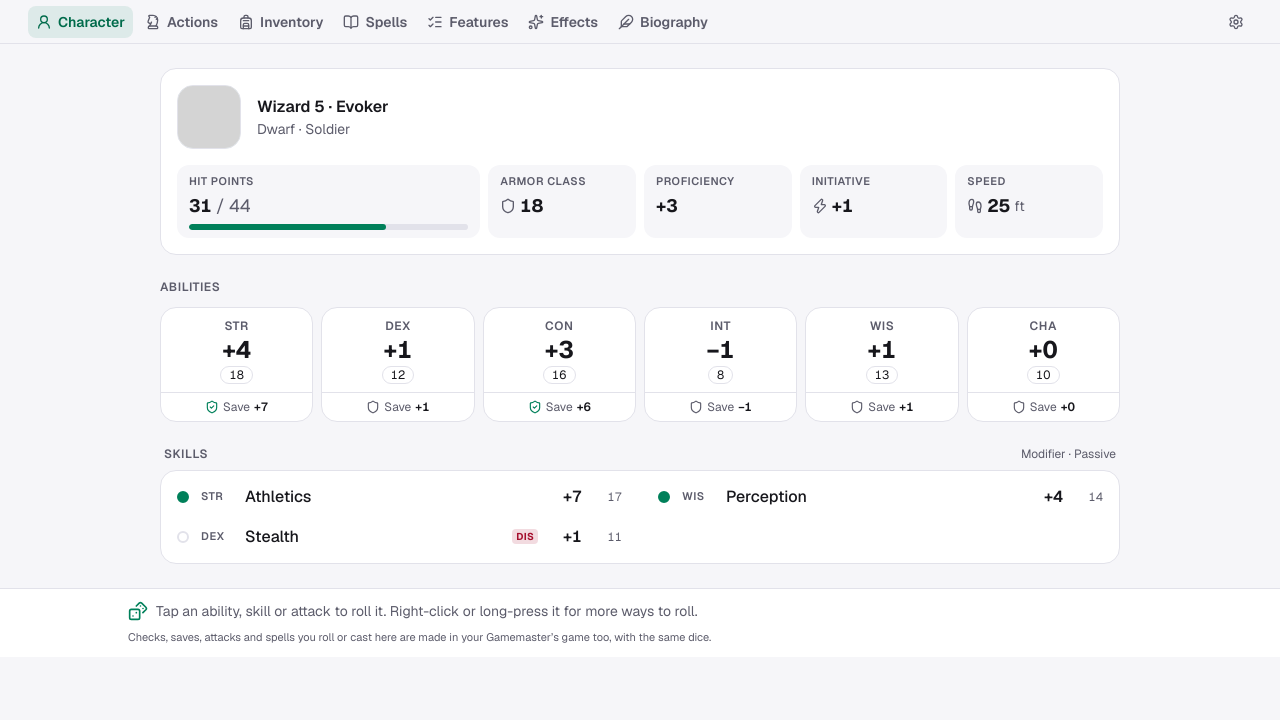
Test: enchant activities at the table, from module 0.21.0 › a use › casts Magic Weapon on the item tapped, in the way offered at the level chosen
The image size is (1280, 720).
What coordinates should you click on to do the following:
click the tab "Actions"
I would click on:
 (182, 22)
Its box is [137, 6, 226, 38].
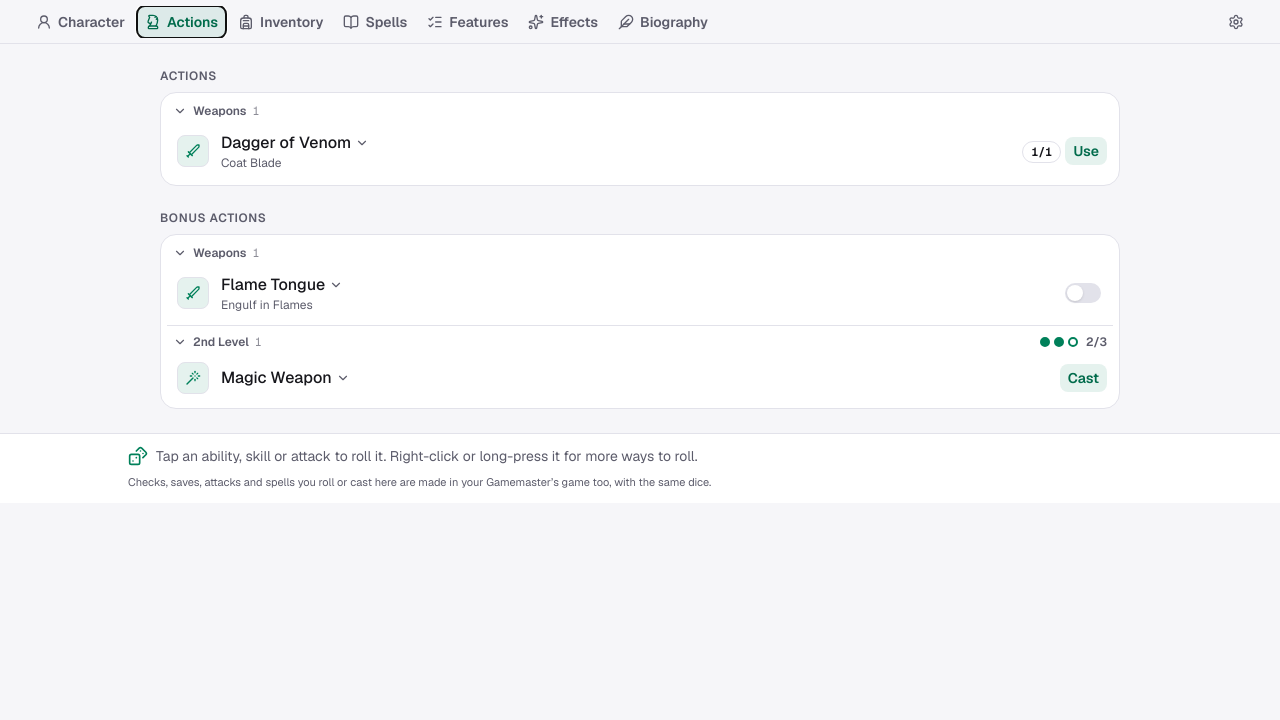
expect the list item "Magic Weapon Cast" does not show "Used in Foundry": met, box [167, 354, 1113, 402]
What coordinates should you click on to do the following:
click the button with aria-label "Cast Magic Weapon"
I would click on:
 (1083, 378)
Its box is [1060, 364, 1107, 392].
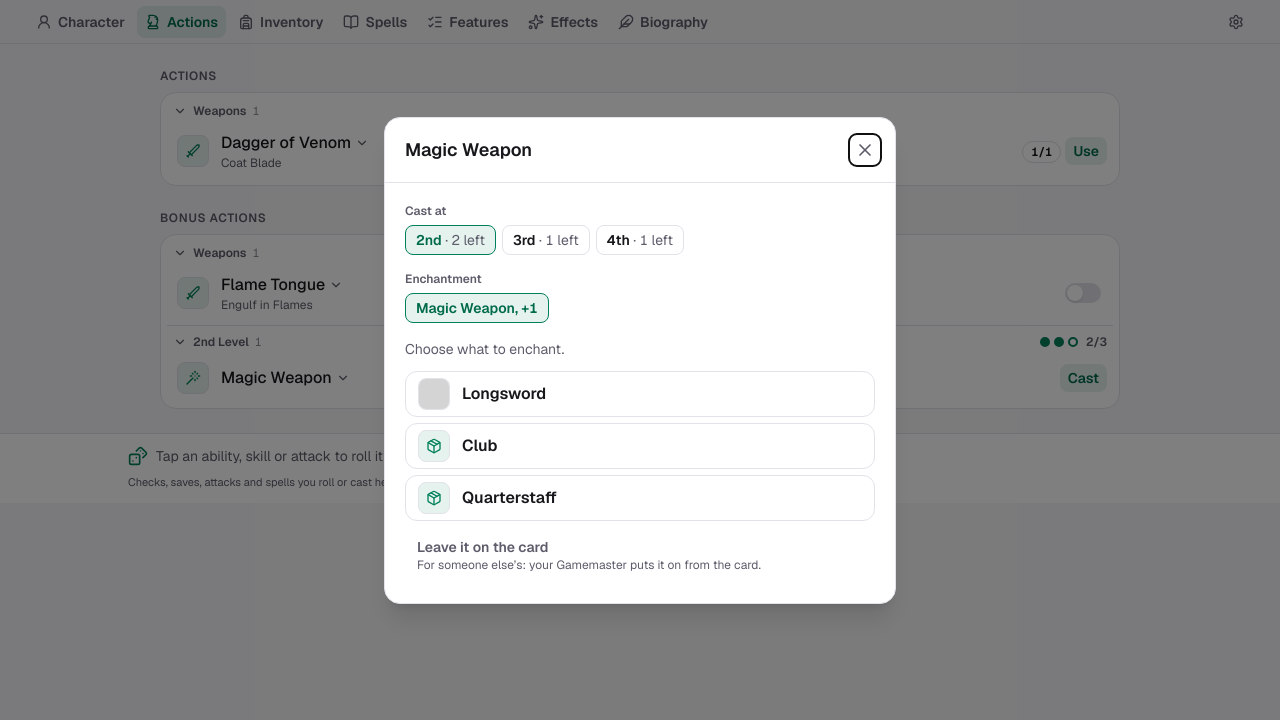
expect the radio button labelled "Magic Weapon, +1" is checked: met, box [405, 292, 549, 322]
What coordinates should you click on to do the following:
click the radio button with aria-label "4th Level, 1 slot left"
I would click on:
 (640, 240)
Its box is [596, 224, 684, 254].
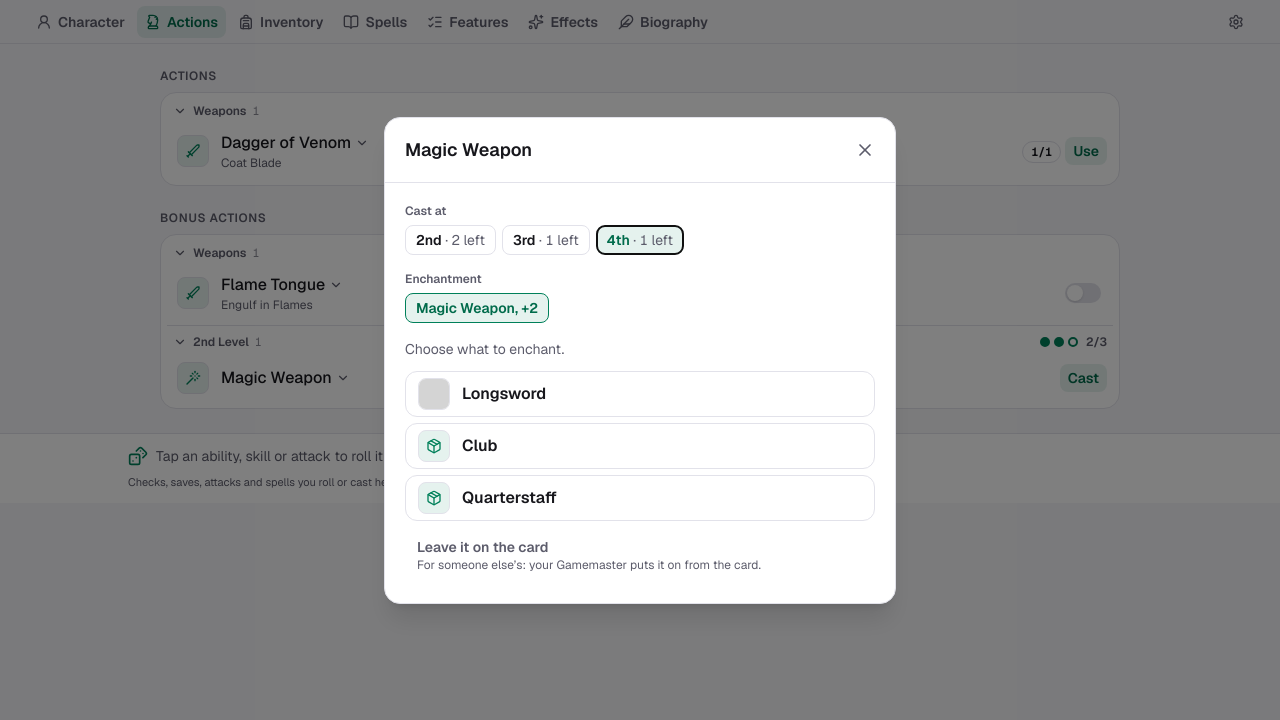
expect the radio button labelled "Magic Weapon, +2" is checked: met, box [405, 292, 549, 322]
What coordinates should you click on to do the following:
click the button "Longsword"
I would click on:
 (434, 394)
Its box is [405, 370, 875, 416].
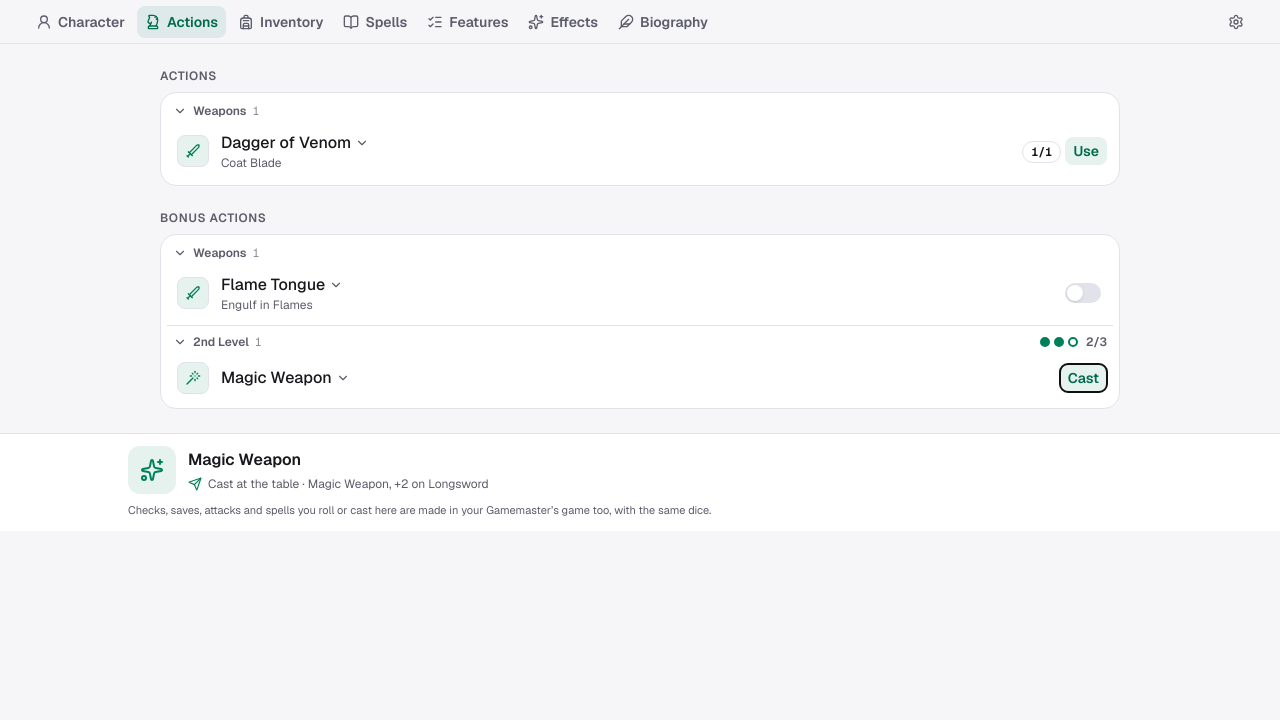
expect the message shows "Cast at the table · Magic Weapon, +2 on Longsword": met, box [208, 476, 489, 492]
